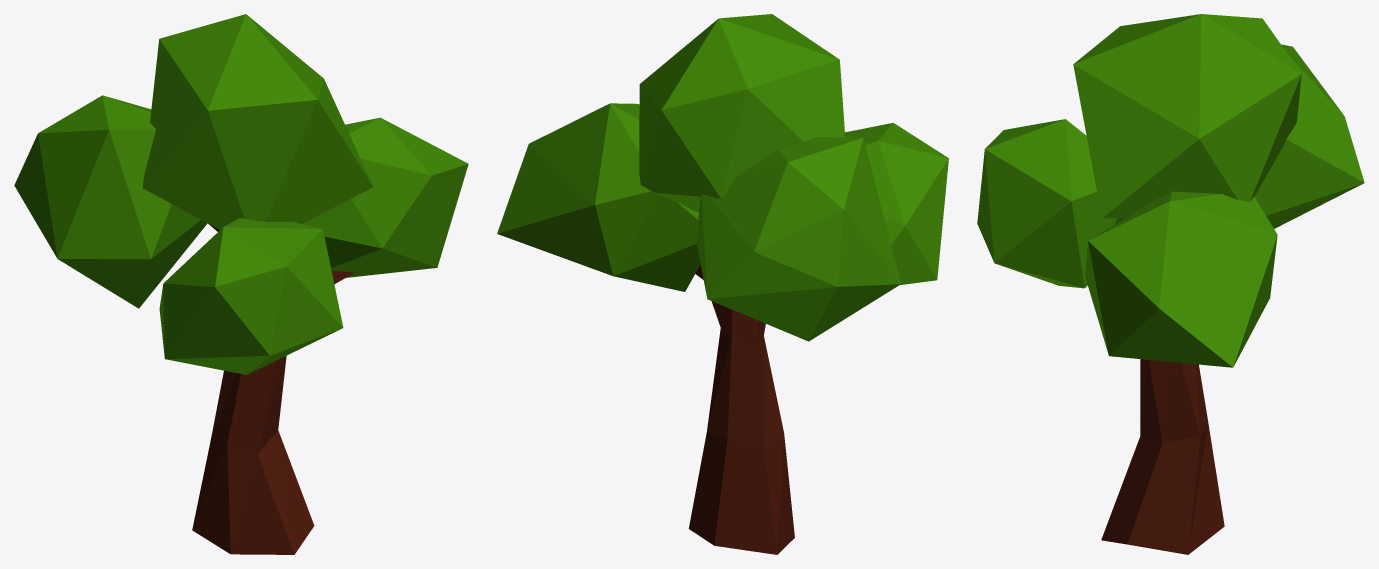
The model's file is M_Tree2.FBX.
3 views of the same model, side by side, from view 1: azimuth 30°, elevation 25°; view 2: azimuth 150°, elevation 25°; view 3: azimuth 270°, elevation 25° (orthographic). The views are drawn at different scales.
Parts seen in each view (by area): view 1: GeoSphere005, GeoSphere015, GeoSphere016, Cylinder002, GeoSphere014; view 2: GeoSphere015, GeoSphere005, GeoSphere014, Cylinder002, GeoSphere016; view 3: GeoSphere005, GeoSphere014, GeoSphere016, Cylinder002, GeoSphere015.
Part boxes in pixels (x1,y1,x2,y2): GeoSphere005: [142, 14, 373, 229]; GeoSphere015: [14, 95, 207, 308]; GeoSphere016: [159, 218, 343, 374]; Cylinder002: [192, 224, 354, 554]; GeoSphere014: [302, 117, 468, 277]; GeoSphere015: [696, 137, 900, 341]; GeoSphere005: [639, 14, 845, 212]; GeoSphere014: [497, 103, 700, 291]; Cylinder002: [688, 265, 794, 554]; GeoSphere016: [845, 123, 948, 284]; GeoSphere005: [1073, 14, 1301, 218]; GeoSphere014: [1085, 191, 1277, 367]; GeoSphere016: [977, 119, 1124, 288]; Cylinder002: [1101, 359, 1224, 554]; GeoSphere015: [1254, 44, 1364, 228].
Size of the model in its own units: 317 by 401 by 266.
